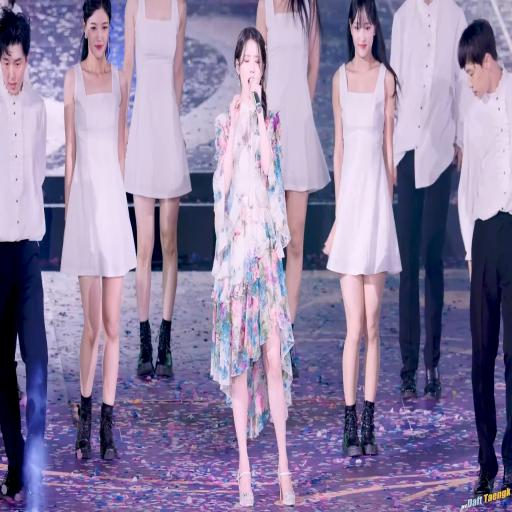IU: (234, 28, 266, 100)
